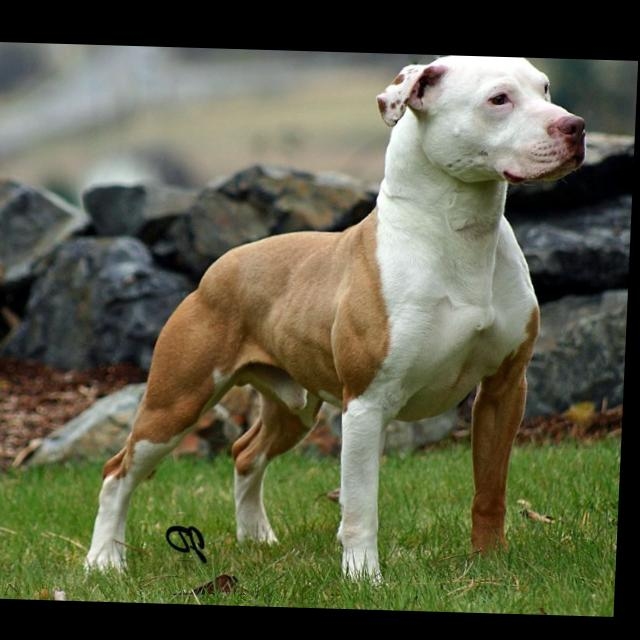am_pit_bull_terrier: (89, 46, 592, 593)
